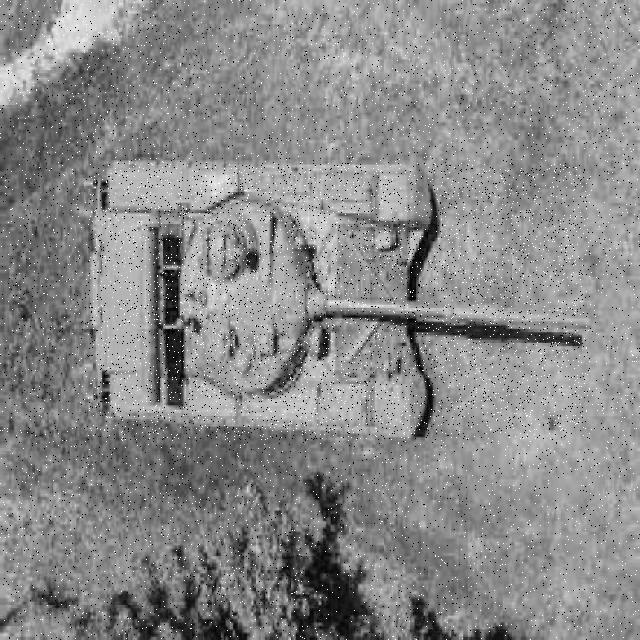MIL_MBT: (88, 163, 590, 440)
